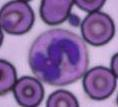N: (28, 28, 88, 85)
